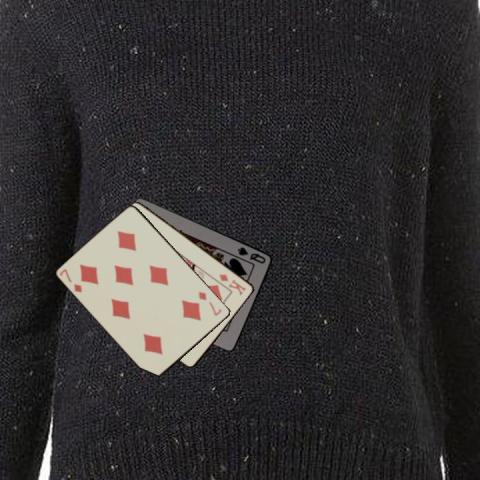7d: (196, 289, 224, 317), (57, 266, 83, 294)
Kd: (217, 270, 248, 296)
Qs: (235, 244, 267, 265)
